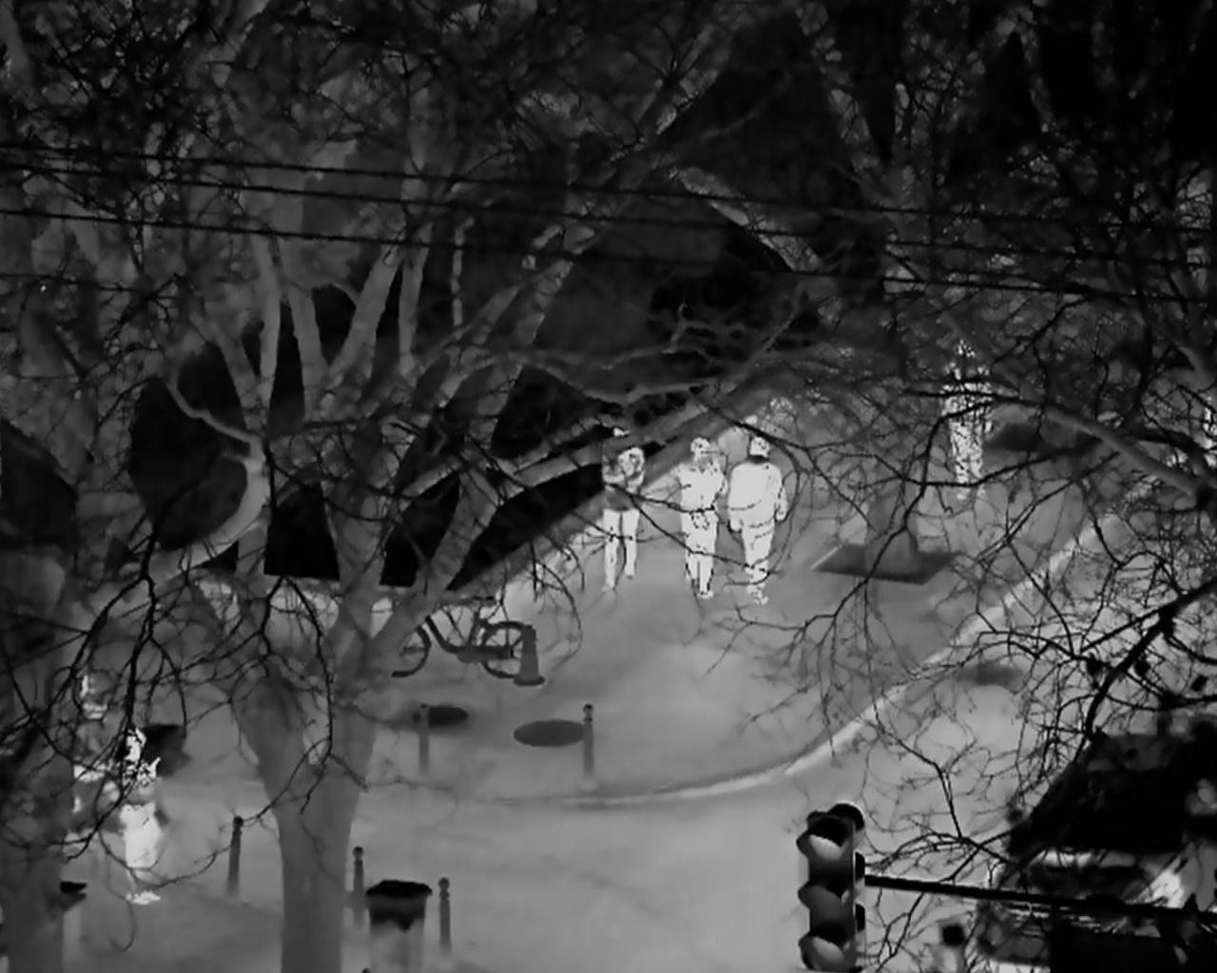person: (724, 431, 784, 608), (673, 435, 726, 601), (119, 727, 166, 908), (599, 447, 646, 594)
